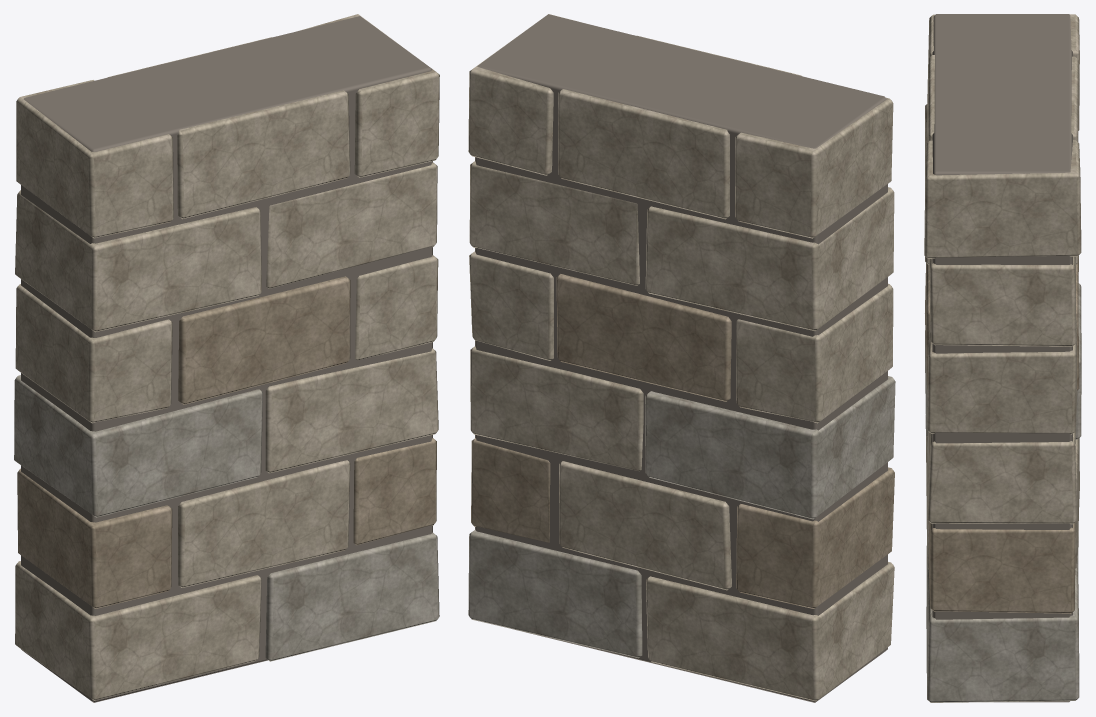
File: Stone_Wall_2x3.glb
3 views of the same model, side by side, from view 1: azimuth 30°, elevation 25°; view 2: azimuth 150°, elevation 25°; view 3: azimuth 270°, elevation 25° (orthographic). The views are drawn at different scales.
Visible parts, largest first — view 1: Stone_Wall_2x3; view 2: Stone_Wall_2x3; view 3: Stone_Wall_2x3.
Boxes of the visible parts, left/top/right/bottom form: Stone_Wall_2x3: left=14, top=14, right=439, bottom=702; Stone_Wall_2x3: left=468, top=14, right=895, bottom=702; Stone_Wall_2x3: left=924, top=14, right=1081, bottom=702.
Bounding box in the file's own units: 1.99 × 3 × 0.8056.
Materials: 4 (3 with a texture image).
